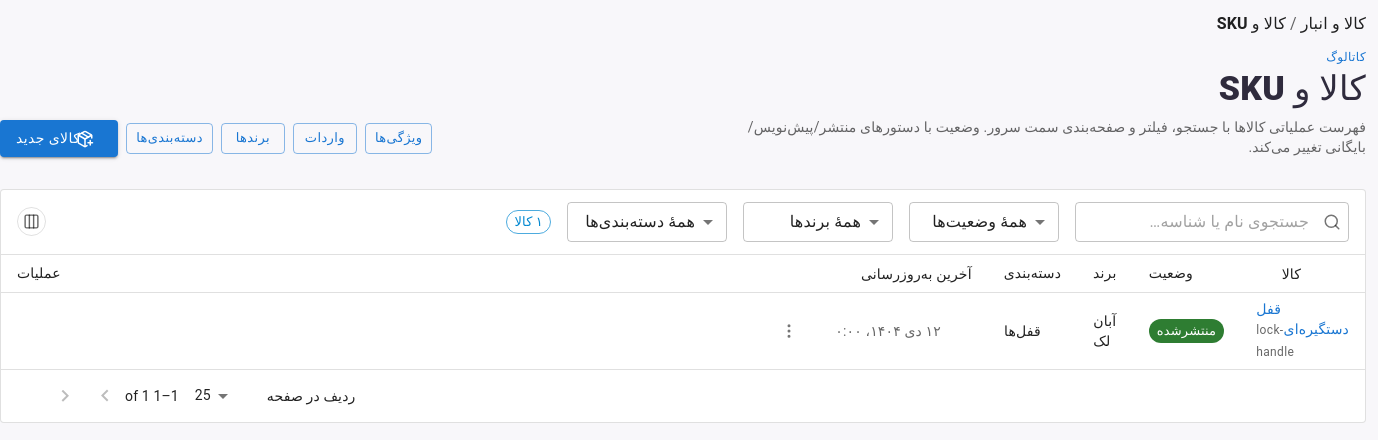
ProductsView › renders brand and category filter options
Expected: the link "قفل دستگیره‌ای" is shown, [1256,301,1349,337]
Press the mouse on the dropdown named "فیلتر برند": [825, 222] box [790,212,861,231]
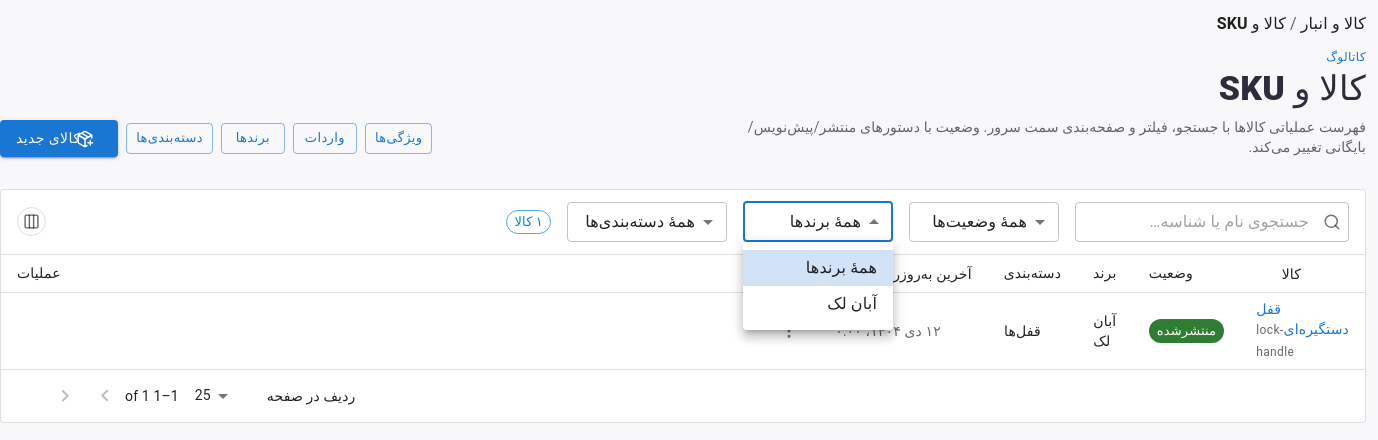
Expected: the option "آبان لک" is shown, [827,294,877,313]
